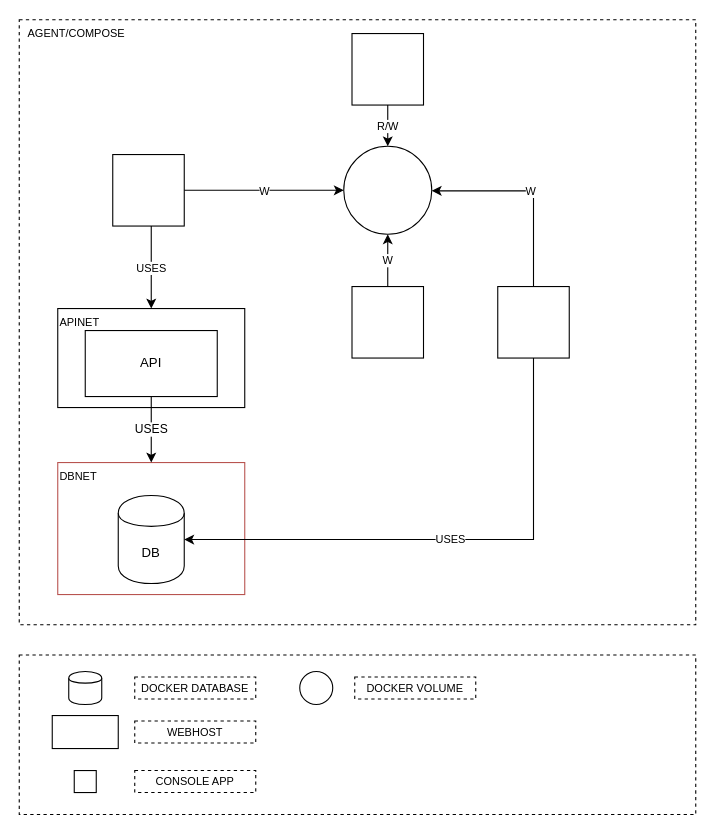
This 715x834 diagram has some shape labels left out. Here are the shapes that lost their labels. From the top down, the centre of each, then its label:
At point 387,68: "COVERAGE TOOL".
At point 148,189: "E2E".
At point 387,189: "VOLUME TEST RESULTS COVERAGE".
At point 387,321: "UNIT TESTS".
At point 533,321: "INTEG TESTS".
